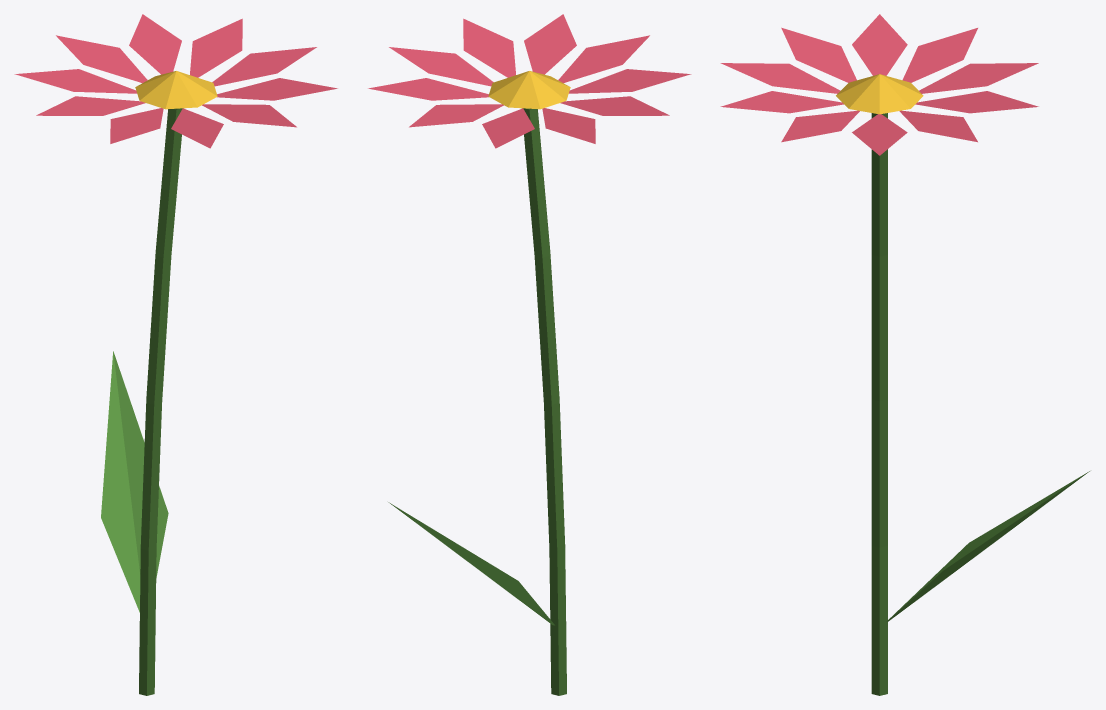
Rendered from daisy.glb.
3 views of the same model, side by side, from view 1: azimuth 30°, elevation 25°; view 2: azimuth 150°, elevation 25°; view 3: azimuth 270°, elevation 25° (orthographic). The views are drawn at different scales.
Parts seen in each view (by area): view 1: daisy; view 2: daisy; view 3: daisy.
Part boxes in pixels (x1,y1,x2,y2): daisy: [14, 14, 337, 695]; daisy: [368, 14, 691, 695]; daisy: [720, 14, 1089, 695].
Bounding box in the file's own units: 0.1428 × 0.2969 × 0.1581.
